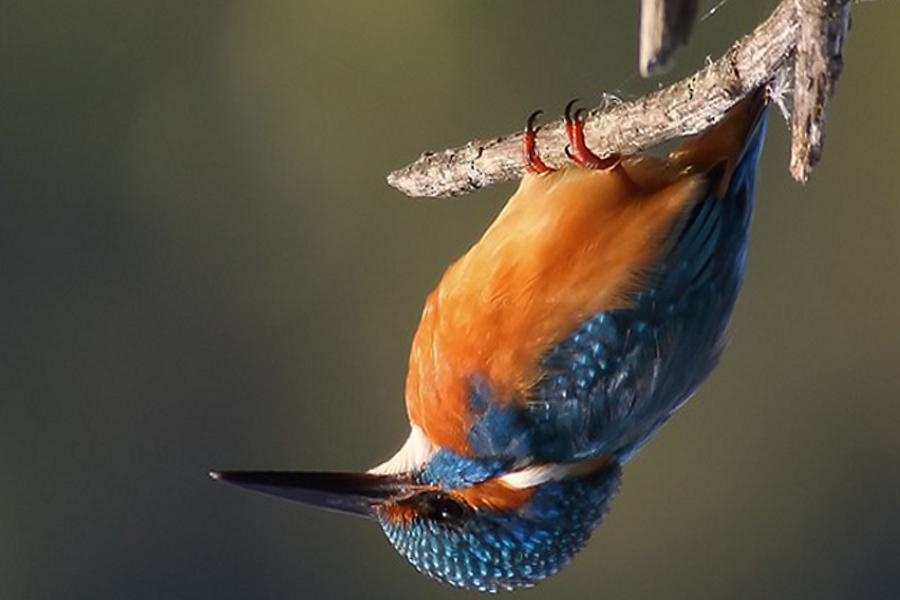kingfisher: (203, 58, 814, 589)
